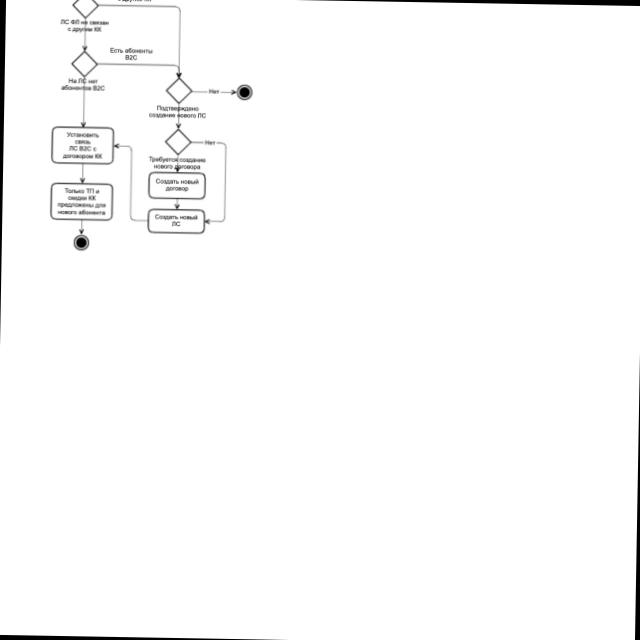arrow: (97, 4, 183, 78), (189, 140, 226, 224), (113, 143, 149, 222), (96, 62, 182, 78), (81, 77, 87, 127), (83, 18, 88, 51), (175, 102, 181, 128), (80, 164, 86, 184), (174, 154, 180, 172), (78, 219, 84, 235)
circle: (234, 82, 255, 103), (72, 234, 90, 252)
diamond: (165, 129, 192, 156), (71, 50, 98, 77), (166, 77, 193, 104)
rectangle: (52, 125, 115, 166), (51, 183, 113, 220), (149, 172, 206, 199), (148, 210, 205, 233)
text_region: (148, 155, 205, 172), (148, 103, 208, 119), (107, 45, 154, 62), (59, 77, 106, 93), (59, 18, 109, 33), (207, 87, 220, 95)
